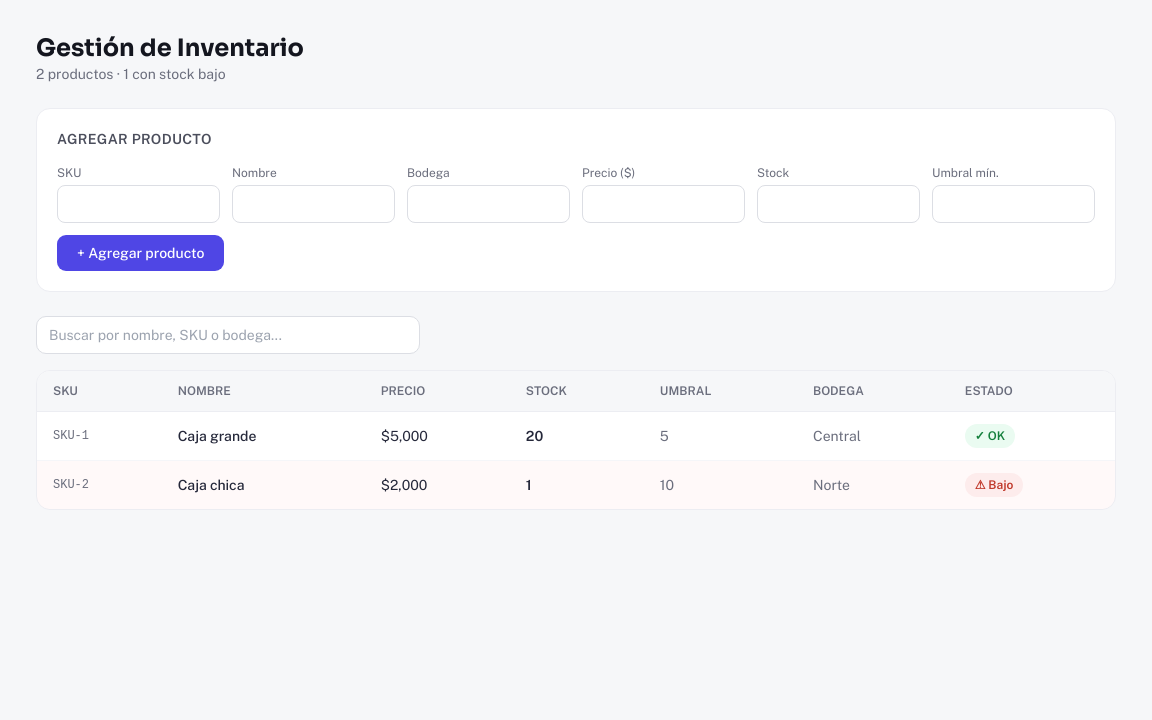
Test: Inventario › shows the backend error message when creating a product fails
The image size is (1152, 720).
Expected: the text "Caja grande" is shown, x1=162 y1=412 x2=365 y2=460
Type "SKU-1" into the 1st field.
click(138, 204); type("SKU-1")  # box x1=57 y1=185 x2=220 y2=223
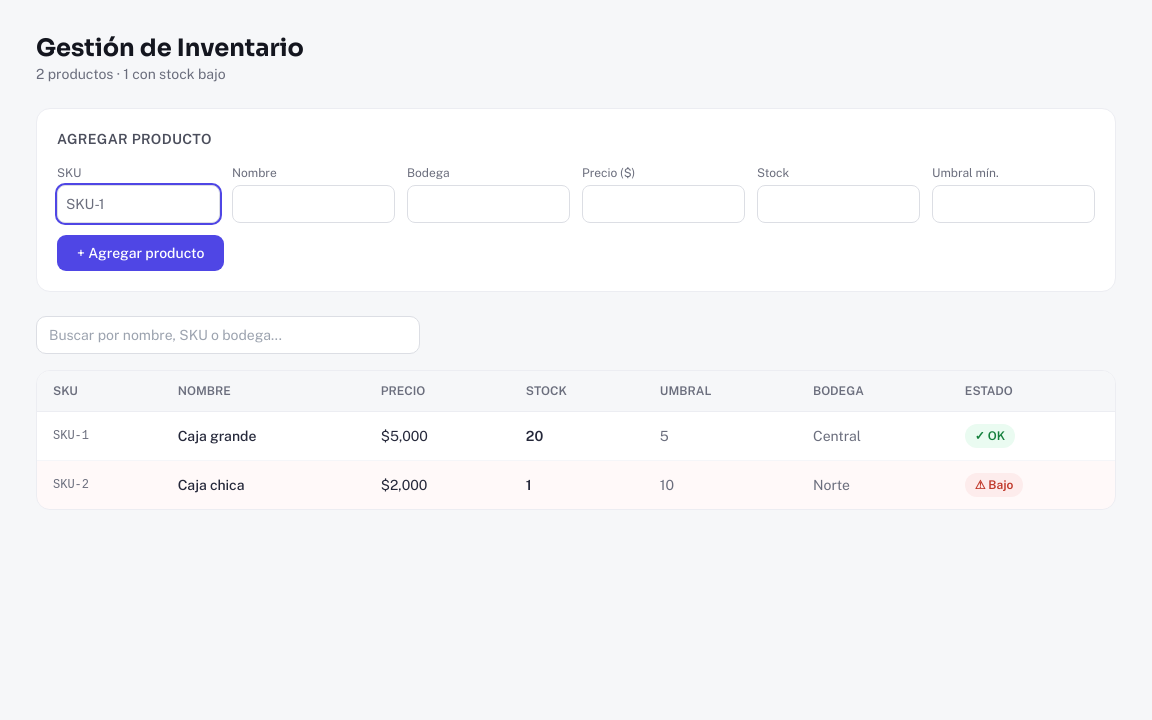
Type "Caja repetida" into the 2nd field.
click(314, 204); type("Caja repetida")  # box x1=232 y1=185 x2=395 y2=223
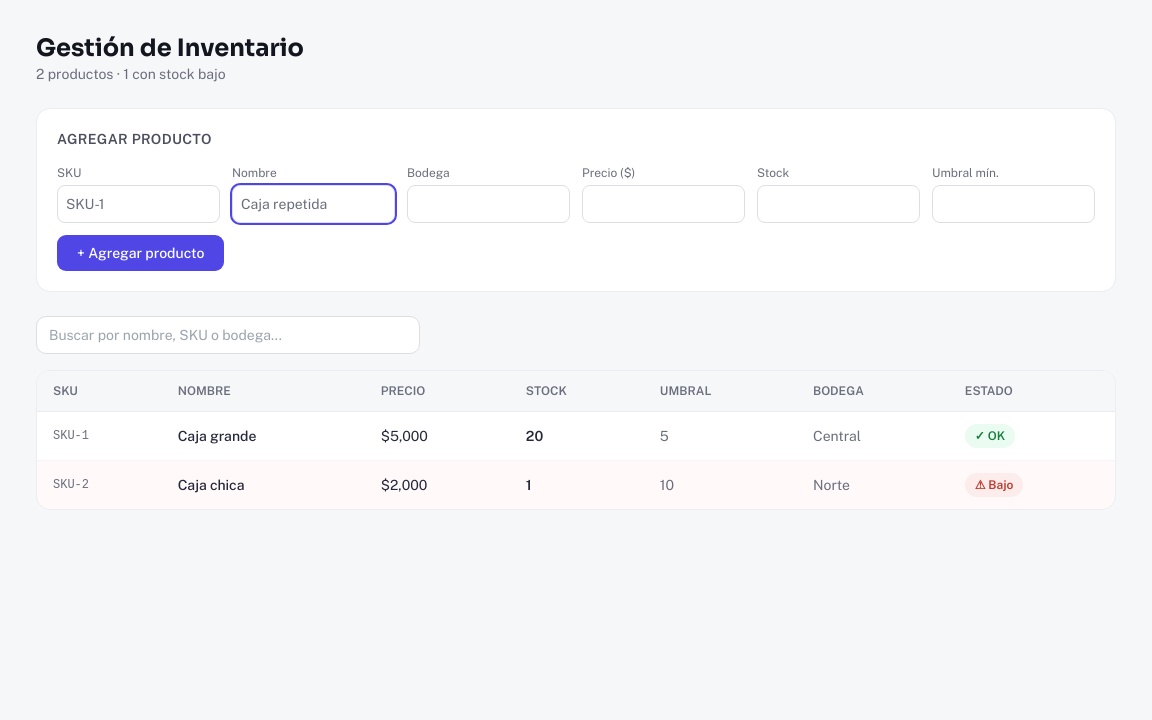
Type "1000" into the number field below "Precio ($)".
click(664, 204); type("1000")  # box x1=582 y1=185 x2=745 y2=223
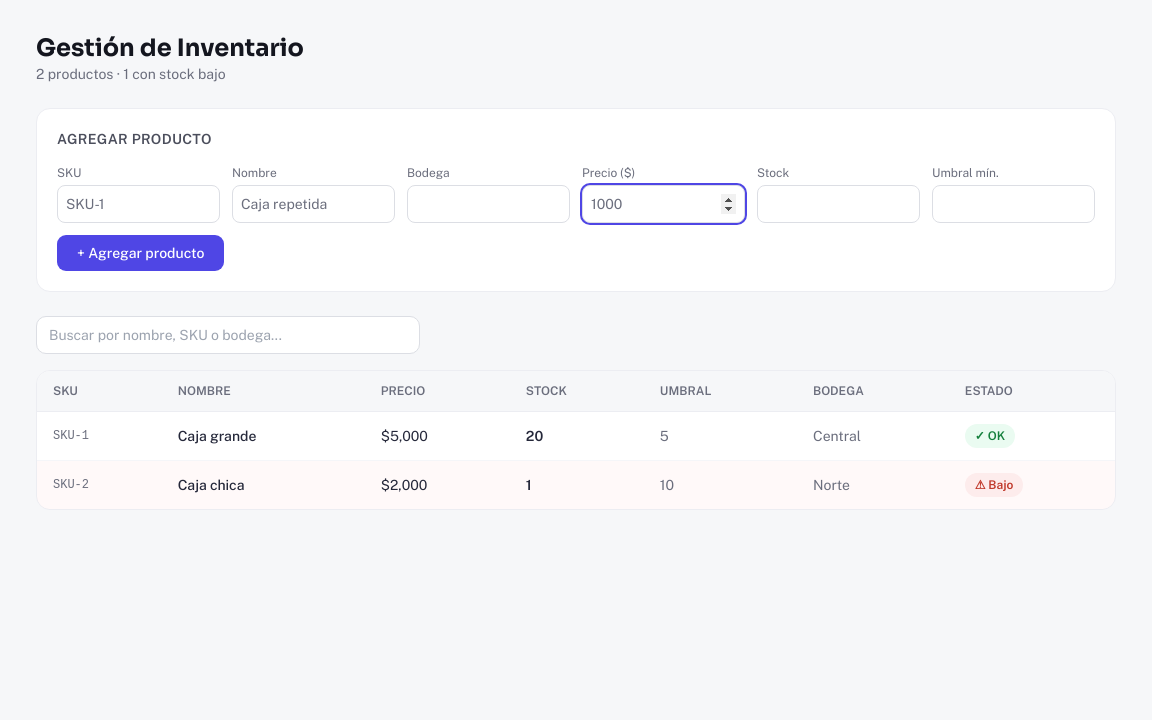
Type "50" into the 2nd number field.
click(838, 204); type("50")  # box x1=757 y1=185 x2=920 y2=223
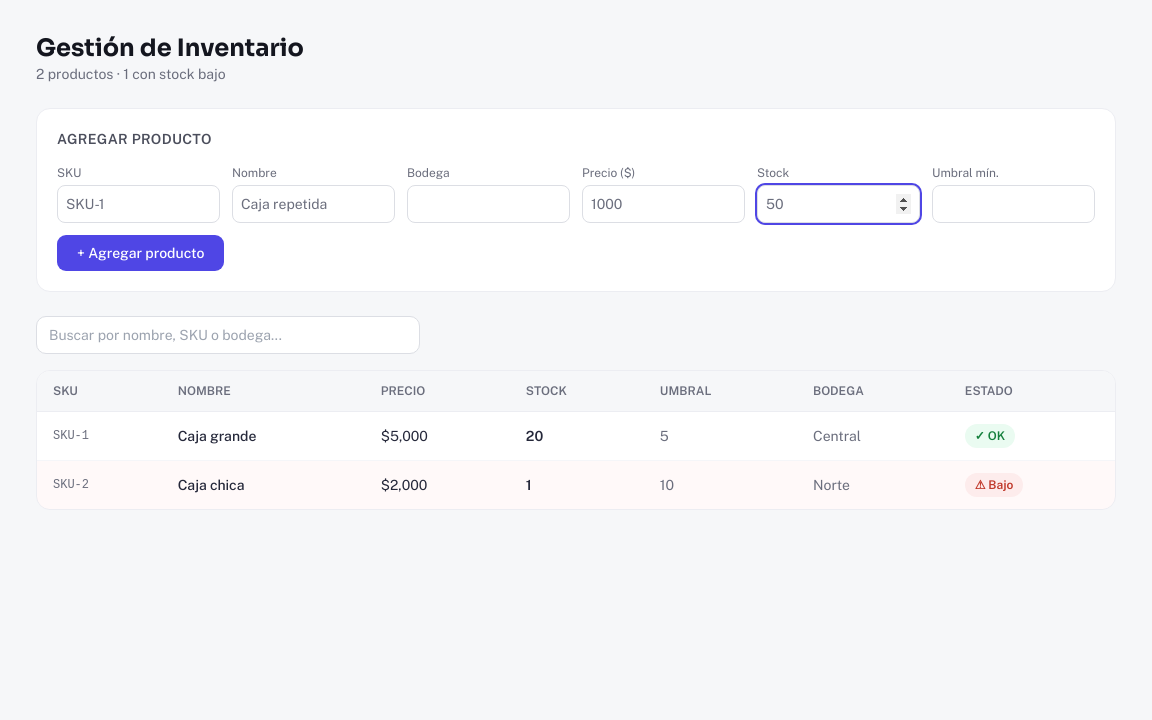
Type "5" into the number field below "Umbral mín.".
click(1014, 204); type("5")  # box x1=932 y1=185 x2=1095 y2=223
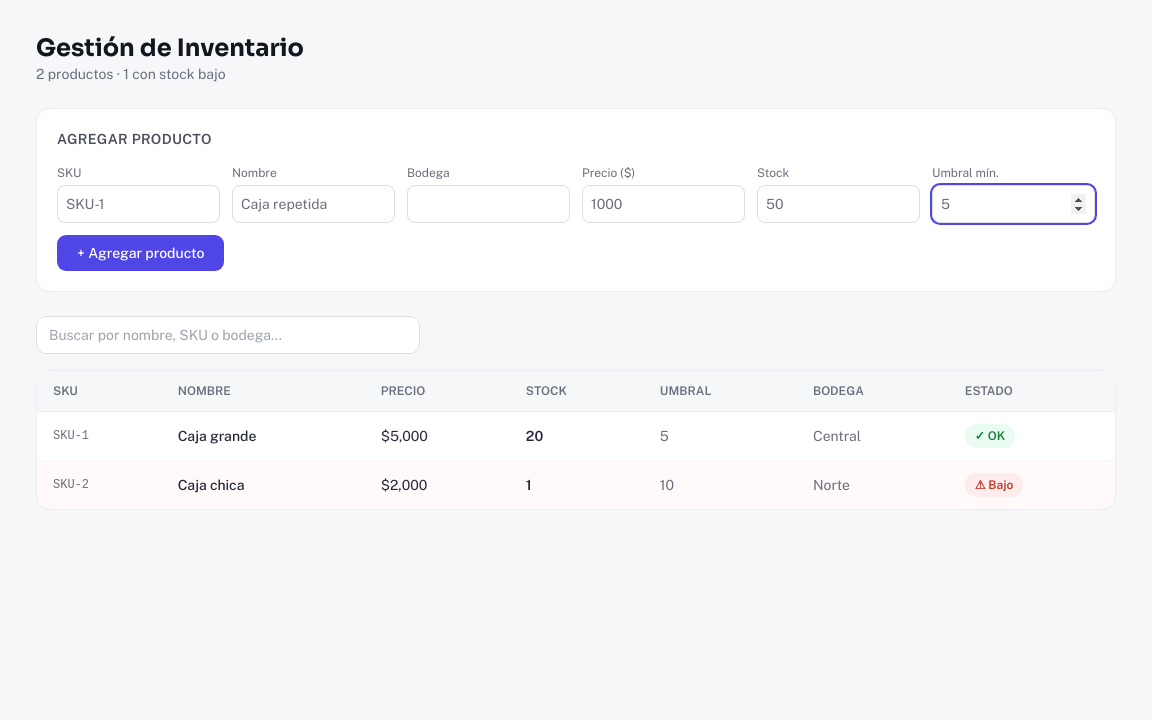
Click the button "+ Agregar producto".
click(141, 253)  # box x1=57 y1=235 x2=224 y2=271
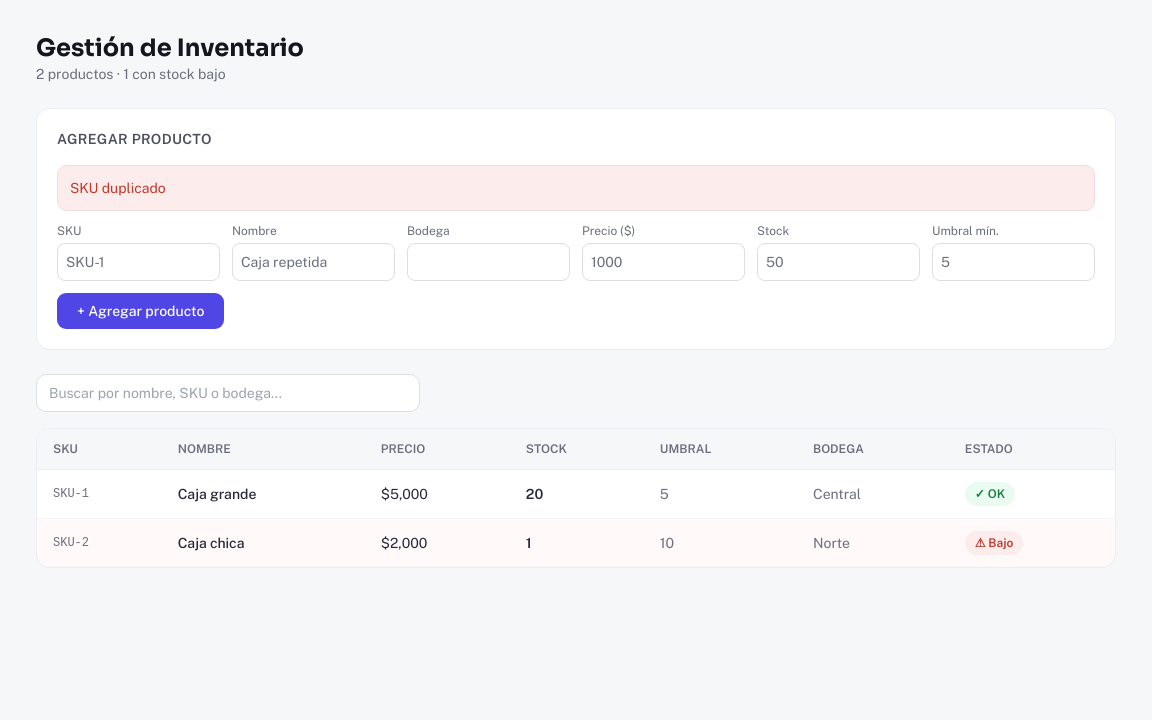
Now the text "SKU duplicado" is shown, box x1=57 y1=165 x2=1095 y2=211
